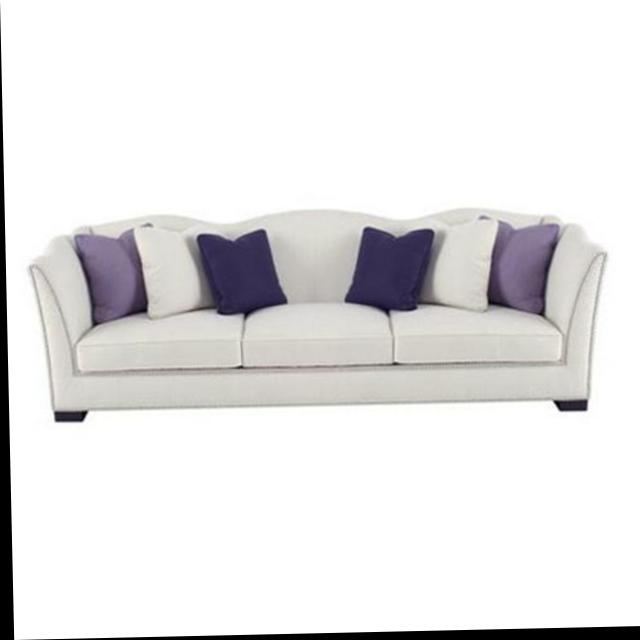Sofa: (27, 200, 612, 423)
